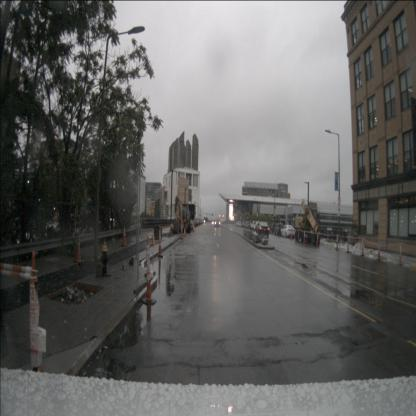movable_object-trafficcone: (24, 250, 48, 412), (141, 235, 157, 306), (73, 230, 84, 263), (156, 224, 164, 258), (121, 224, 128, 247), (398, 242, 403, 266), (376, 242, 382, 262), (179, 219, 184, 240), (315, 230, 320, 247), (361, 236, 365, 256), (151, 231, 156, 246), (335, 232, 339, 250), (346, 235, 350, 252), (302, 229, 306, 245), (296, 227, 300, 243), (290, 225, 294, 240), (183, 227, 187, 237), (192, 223, 196, 232)
vehicle-car: (254, 221, 270, 238), (280, 224, 296, 239), (274, 223, 284, 236), (214, 218, 220, 227), (245, 221, 251, 228)
